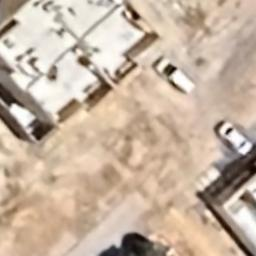SUV: (152, 59, 196, 96)
sedan: (214, 120, 254, 156)
